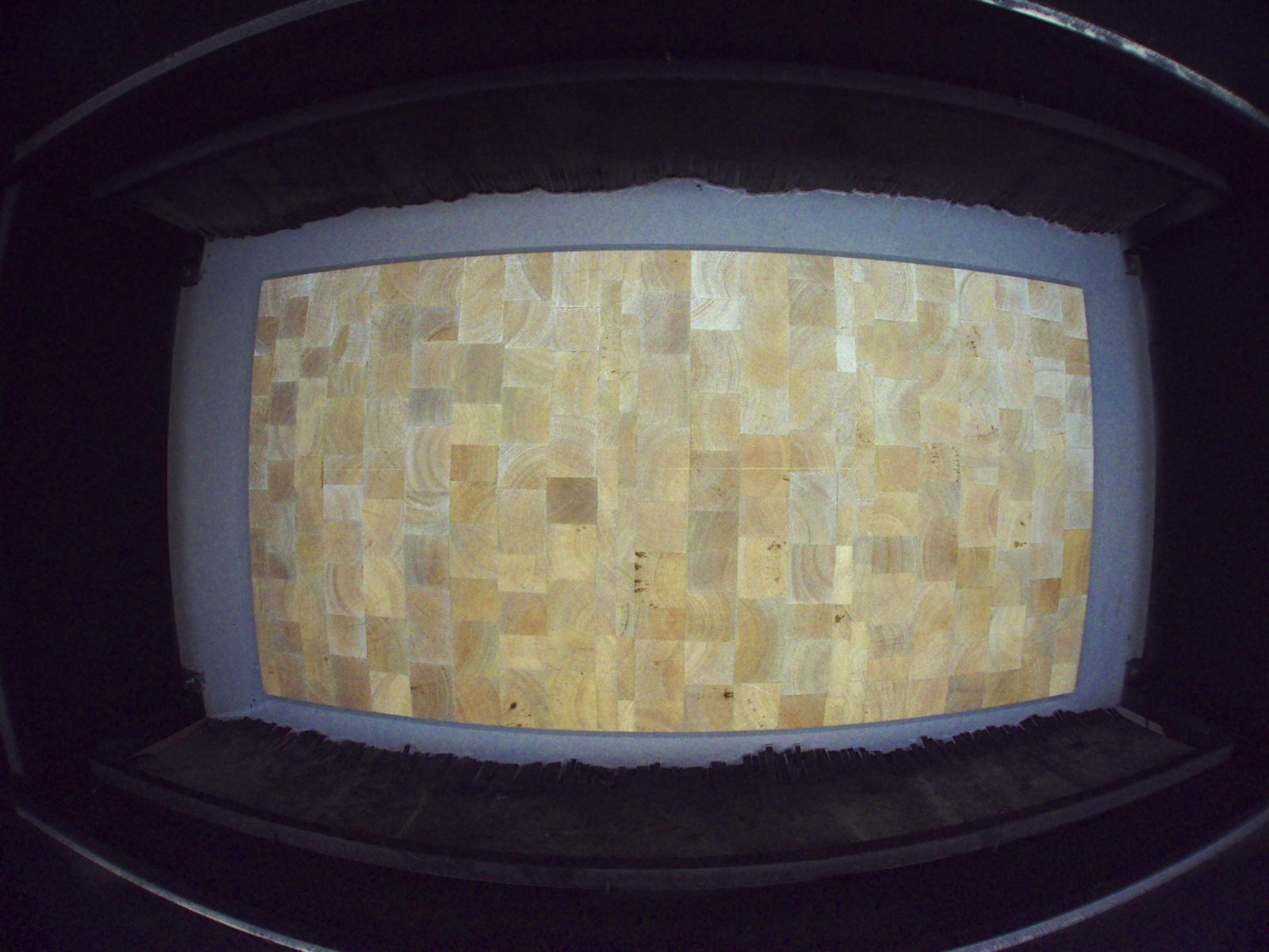sheck_ecuatoriano: (723, 686, 735, 700)
